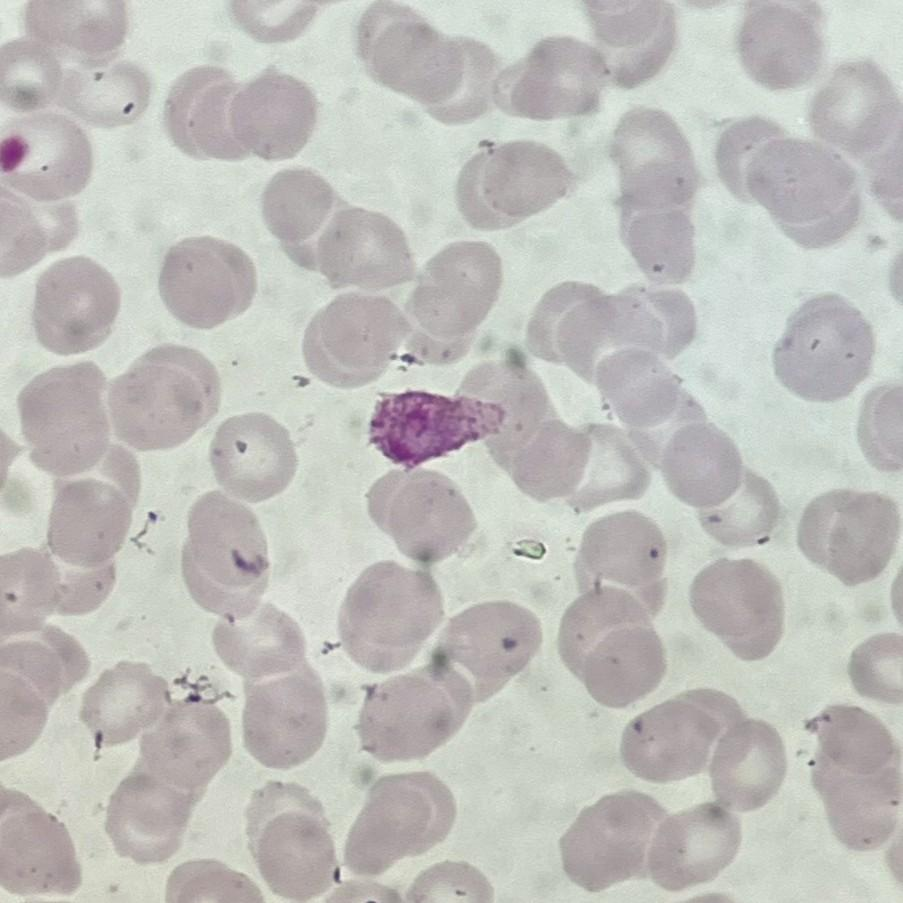Infected: (364, 388, 503, 465)
Uninfected: (355, 4, 500, 120), (559, 583, 668, 708), (738, 136, 859, 244), (805, 703, 900, 837), (180, 491, 275, 617), (243, 782, 345, 899), (401, 243, 503, 358), (344, 774, 454, 879), (109, 346, 218, 451), (17, 361, 116, 476), (621, 688, 737, 786), (337, 562, 443, 668), (354, 667, 471, 763), (774, 289, 873, 400), (300, 292, 412, 390), (457, 139, 574, 232), (436, 600, 538, 706), (558, 291, 671, 386), (367, 469, 475, 566), (559, 792, 663, 892), (687, 556, 782, 662), (132, 693, 234, 791), (605, 108, 699, 214), (44, 472, 138, 576), (454, 357, 552, 456), (796, 489, 897, 585), (238, 663, 330, 768), (30, 253, 122, 354), (574, 0, 680, 87), (643, 802, 744, 893), (314, 204, 417, 293), (158, 236, 257, 328), (1, 632, 80, 747), (103, 772, 199, 866), (224, 69, 320, 161), (572, 510, 669, 601), (502, 37, 608, 120), (811, 60, 900, 158), (208, 598, 305, 686), (80, 660, 172, 750), (163, 66, 251, 160), (0, 789, 78, 894), (495, 417, 588, 505), (704, 716, 787, 812), (525, 280, 612, 370), (208, 412, 295, 502), (735, 3, 824, 90), (3, 176, 78, 276), (259, 165, 339, 257), (596, 349, 683, 433), (568, 428, 651, 513), (662, 425, 744, 509), (702, 469, 783, 552), (717, 117, 794, 202), (27, 0, 129, 64), (621, 203, 697, 285), (63, 57, 151, 127), (0, 545, 63, 628), (0, 39, 66, 110), (855, 380, 902, 470), (848, 632, 903, 702)
